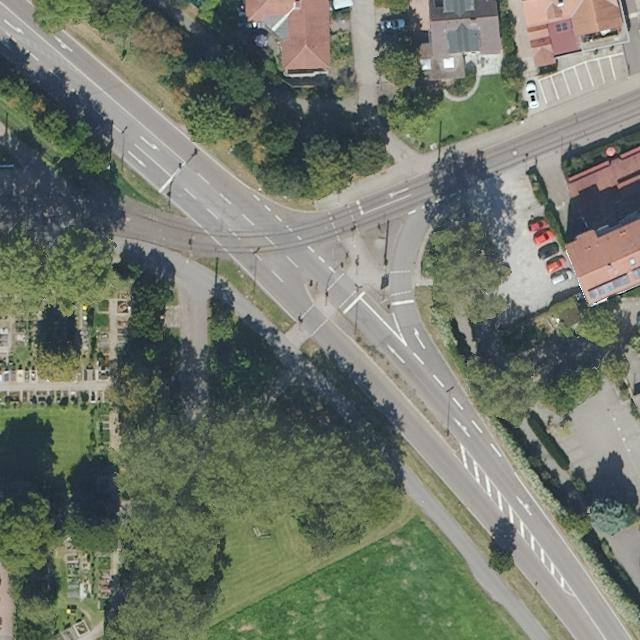PV: (587, 266, 639, 303)
